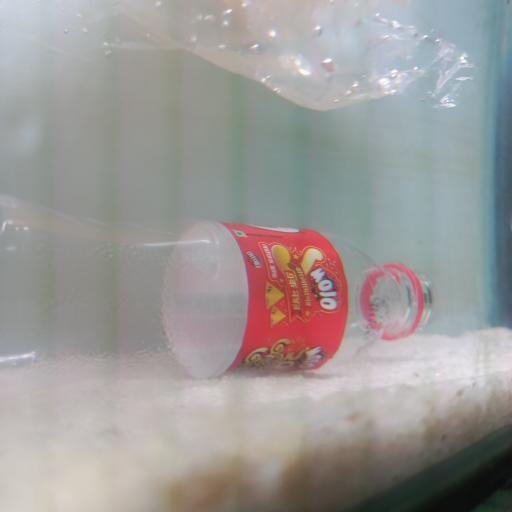plastic_bag: (46, 0, 512, 118)
plastic_bottle: (0, 194, 434, 374)
